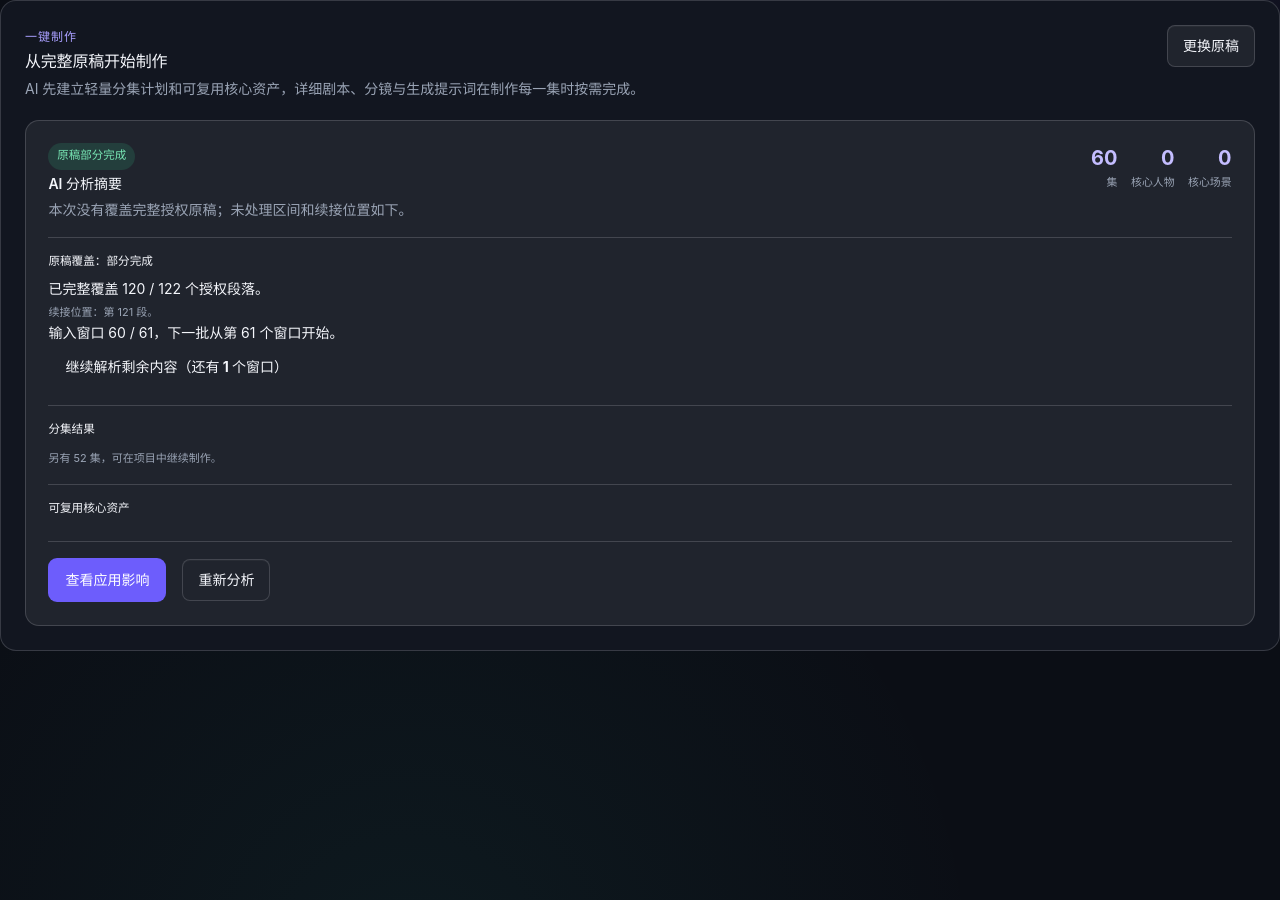
one-click pipeline continue entry (PR-07) › offers the remaining windows with the server's cursor
Expected: the text "输入窗口 60 / 61，下一批从第 61 个窗口开始。" is shown, x1=48 y1=324 x2=343 y2=341
Click the button "继续解析剩余内容（还有 1 个窗口）" at coordinates (177, 367), box x1=48 y1=344 x2=305 y2=389
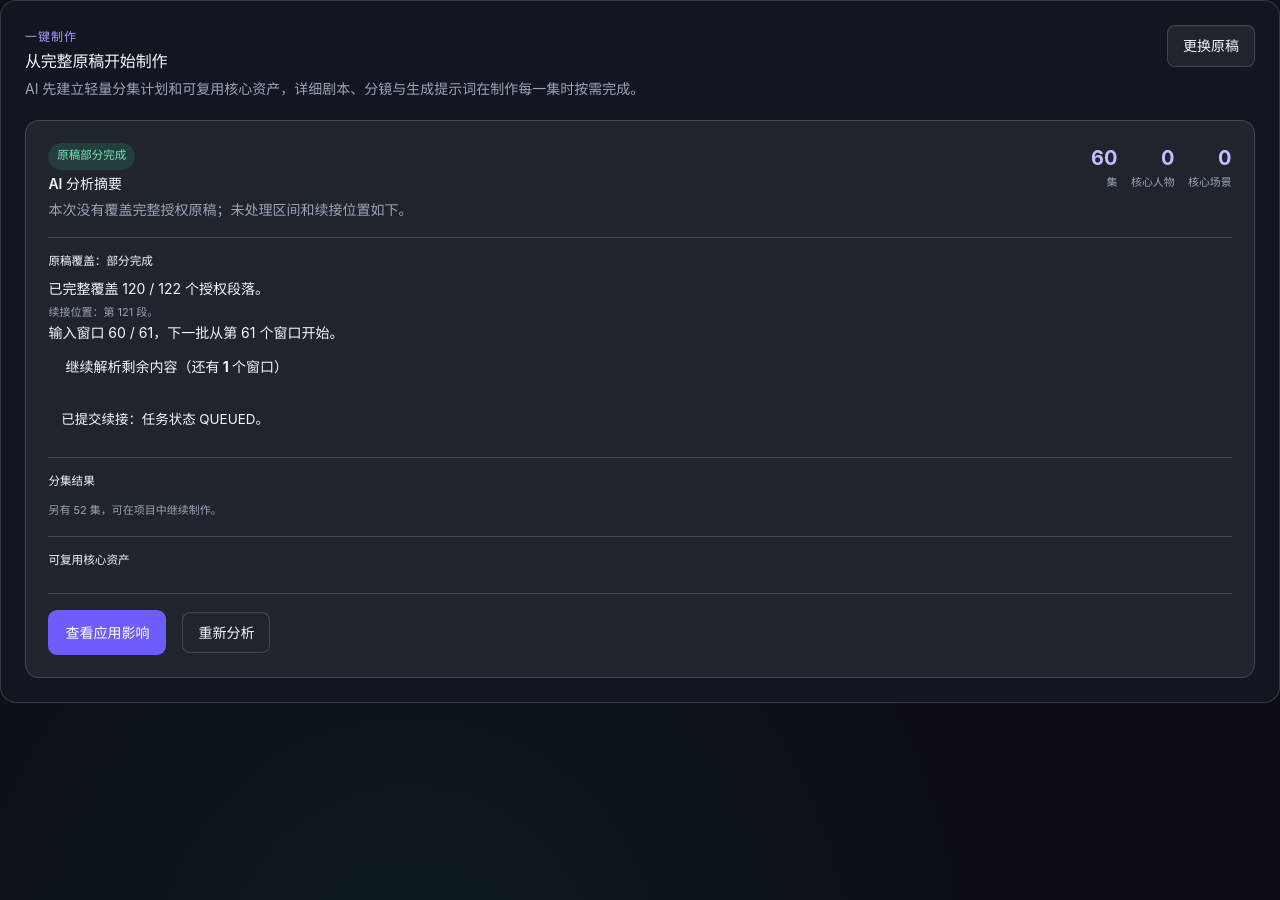
Expected: the text "已提交续接：任务状态 QUEUED。" is shown, x1=61 y1=411 x2=269 y2=427
